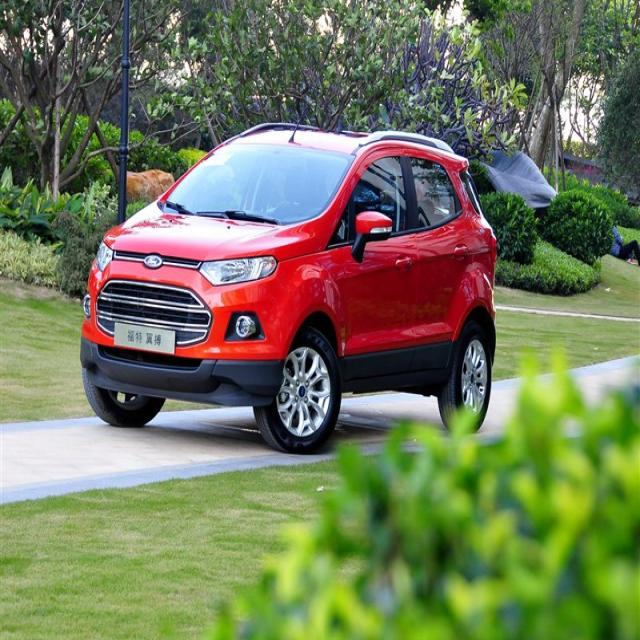door: (403, 149, 470, 368)
front_bumper: (80, 259, 300, 404)
front_glass: (163, 142, 354, 226)
front_left_side_door: (335, 143, 415, 385)
front_left_side_light: (198, 253, 278, 287)
front_left_side_mirror: (352, 209, 392, 263)
front_right_side_light: (97, 235, 113, 273)
wheel: (258, 328, 338, 452), (438, 318, 492, 429), (82, 367, 165, 425)
